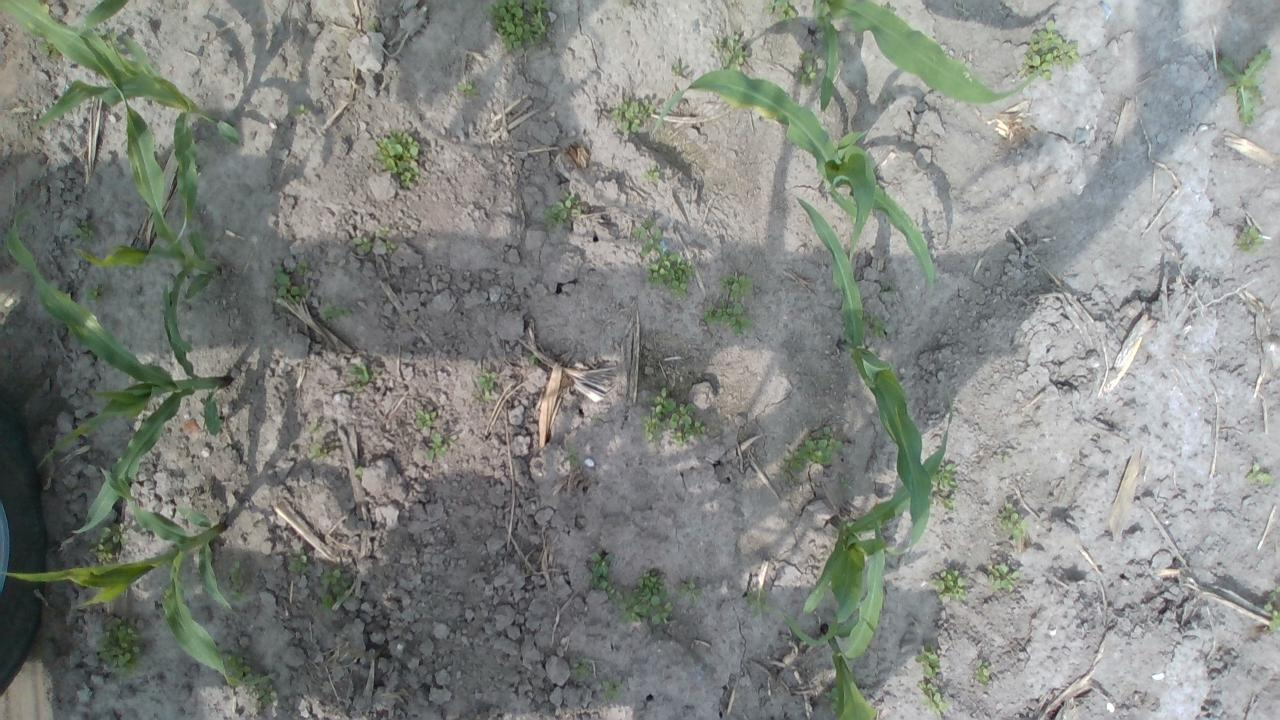Maize: (2, 196, 234, 538), (650, 68, 936, 290), (0, 467, 279, 689), (76, 28, 227, 356), (796, 197, 933, 555), (802, 384, 957, 656), (0, 0, 246, 154), (813, 0, 1054, 111), (782, 614, 882, 720)
Weeds: (635, 226, 695, 298), (1218, 46, 1270, 126), (1022, 17, 1082, 80), (642, 387, 709, 443), (486, 0, 554, 50), (612, 572, 672, 628), (702, 274, 752, 335), (373, 130, 420, 186), (226, 654, 276, 706), (784, 426, 843, 470), (99, 617, 141, 674), (914, 651, 949, 716), (90, 522, 130, 564), (610, 98, 656, 134), (931, 461, 960, 510), (996, 500, 1028, 540), (273, 271, 312, 303), (322, 568, 350, 612), (351, 229, 396, 256), (716, 37, 752, 70), (931, 568, 966, 601), (986, 561, 1022, 593), (589, 552, 615, 596), (1244, 460, 1276, 488), (746, 590, 774, 622), (1236, 222, 1263, 252), (766, 0, 800, 23), (1263, 586, 1280, 632), (425, 434, 451, 462), (550, 196, 580, 220), (797, 55, 818, 89), (569, 656, 592, 684), (348, 364, 372, 389), (595, 676, 622, 698), (288, 552, 312, 574), (823, 686, 843, 712), (971, 658, 990, 685), (73, 223, 96, 245), (680, 578, 701, 602), (310, 441, 337, 459), (414, 409, 438, 429), (476, 371, 498, 392), (230, 559, 246, 587), (870, 318, 888, 340), (324, 306, 348, 322), (294, 260, 312, 279), (672, 61, 688, 80), (644, 164, 660, 183), (85, 286, 104, 300), (458, 83, 476, 95), (294, 103, 310, 116), (524, 352, 538, 366)
